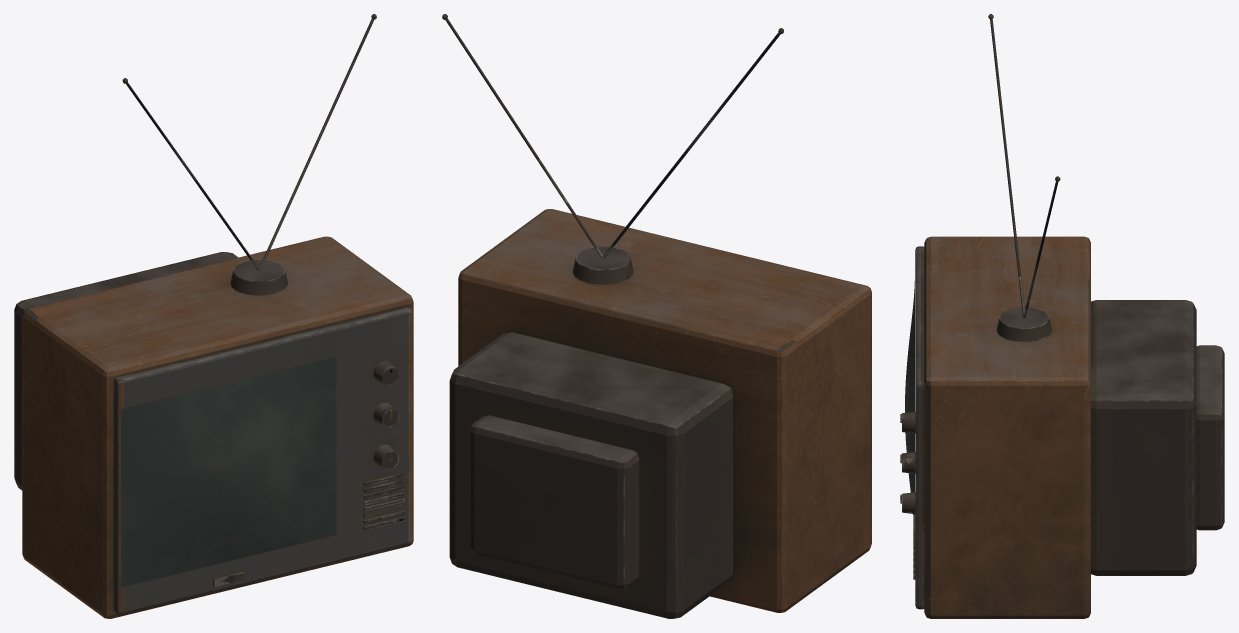
File: CRT_TV.fbx
3 renders of one model, left to right at view 1: azimuth 30°, elevation 25°; view 2: azimuth 150°, elevation 25°; view 3: azimuth 270°, elevation 25°, orthographic. The views are drawn at different scales.
Visible parts, largest first — view 1: CRT_TV_Mesh; view 2: CRT_TV_Mesh; view 3: CRT_TV_Mesh.
Part boxes in pixels (x1,y1,x2,y2): CRT_TV_Mesh: [14, 14, 413, 618]; CRT_TV_Mesh: [442, 14, 871, 618]; CRT_TV_Mesh: [900, 14, 1224, 618].
Bounding box in the file's own units: 0.679 × 0.9725 × 0.583.
